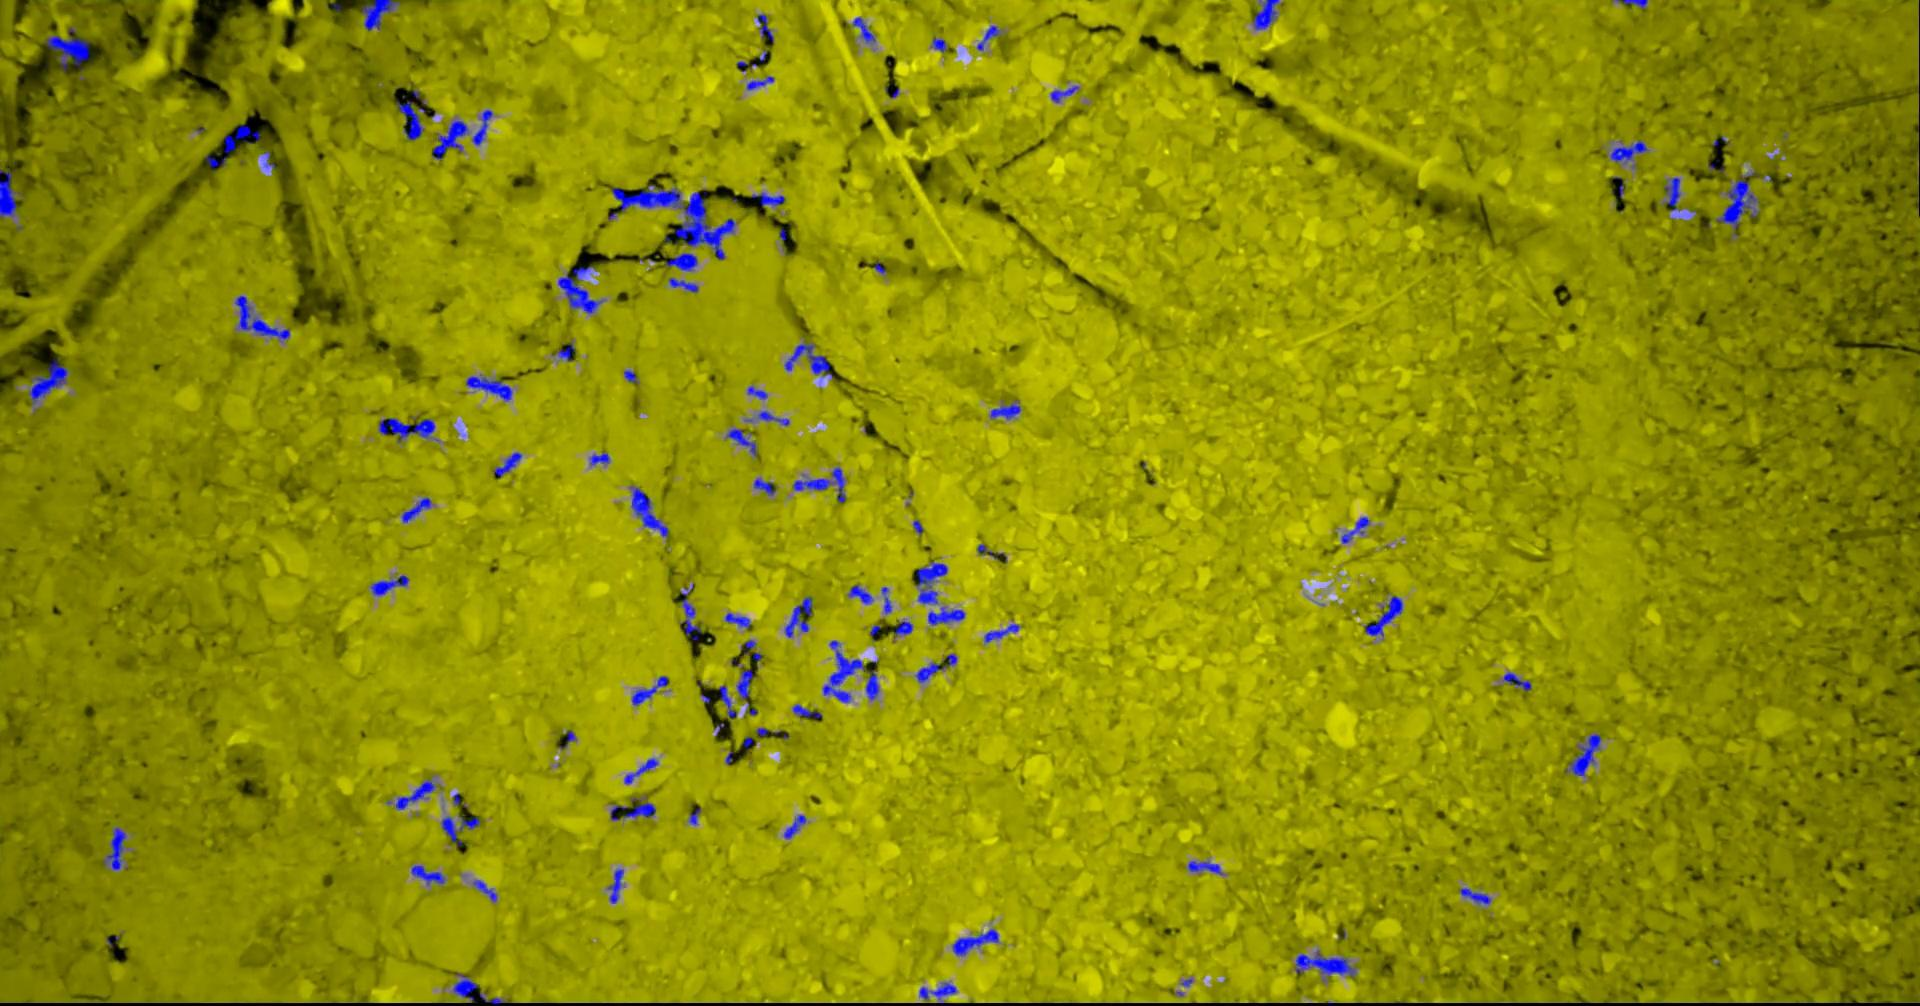ant: (1716, 171, 1759, 235), (822, 640, 865, 702), (234, 295, 290, 340), (204, 124, 259, 166), (557, 265, 602, 312), (44, 27, 89, 71), (631, 486, 668, 537), (792, 467, 844, 502), (783, 343, 832, 379), (29, 358, 67, 403), (1364, 594, 1402, 639), (1294, 950, 1355, 976), (432, 119, 469, 160), (1564, 734, 1600, 776), (378, 417, 434, 442), (916, 560, 947, 603), (951, 929, 998, 955), (441, 814, 480, 846), (465, 375, 512, 400), (395, 780, 436, 809), (361, 0, 399, 30), (681, 583, 701, 640), (783, 596, 811, 636), (631, 674, 668, 705), (610, 796, 655, 821), (396, 99, 423, 140), (103, 827, 124, 869), (1609, 140, 1648, 163), (623, 758, 658, 782), (0, 169, 17, 217), (726, 428, 756, 455), (452, 972, 477, 1002), (1341, 516, 1369, 542), (1252, 0, 1277, 29), (401, 497, 430, 522), (370, 575, 408, 594), (472, 109, 491, 145), (983, 622, 1018, 641), (493, 452, 521, 476), (411, 865, 444, 884), (916, 662, 946, 682), (927, 607, 964, 624), (919, 982, 956, 998), (665, 251, 697, 271), (717, 685, 737, 716), (607, 868, 623, 903), (852, 17, 875, 42), (1458, 887, 1490, 904), (977, 25, 999, 50), (1663, 177, 1680, 210), (783, 814, 805, 838), (990, 401, 1020, 419), (977, 544, 1006, 561), (1503, 672, 1530, 691), (756, 14, 773, 42), (472, 880, 497, 901), (757, 410, 789, 426), (847, 584, 872, 603), (479, 989, 510, 1005), (737, 669, 753, 699), (1187, 860, 1222, 874), (1050, 85, 1078, 102), (750, 192, 783, 206), (668, 277, 697, 292), (740, 639, 761, 661), (725, 612, 750, 629), (865, 669, 879, 699), (792, 704, 822, 718), (753, 478, 775, 495), (745, 76, 773, 89), (557, 340, 575, 359), (557, 730, 575, 749), (930, 36, 949, 52), (893, 620, 912, 636), (1613, 0, 1647, 9), (881, 586, 891, 614), (747, 386, 767, 399), (589, 453, 610, 464), (688, 807, 700, 824), (623, 370, 637, 384), (943, 653, 956, 666)
